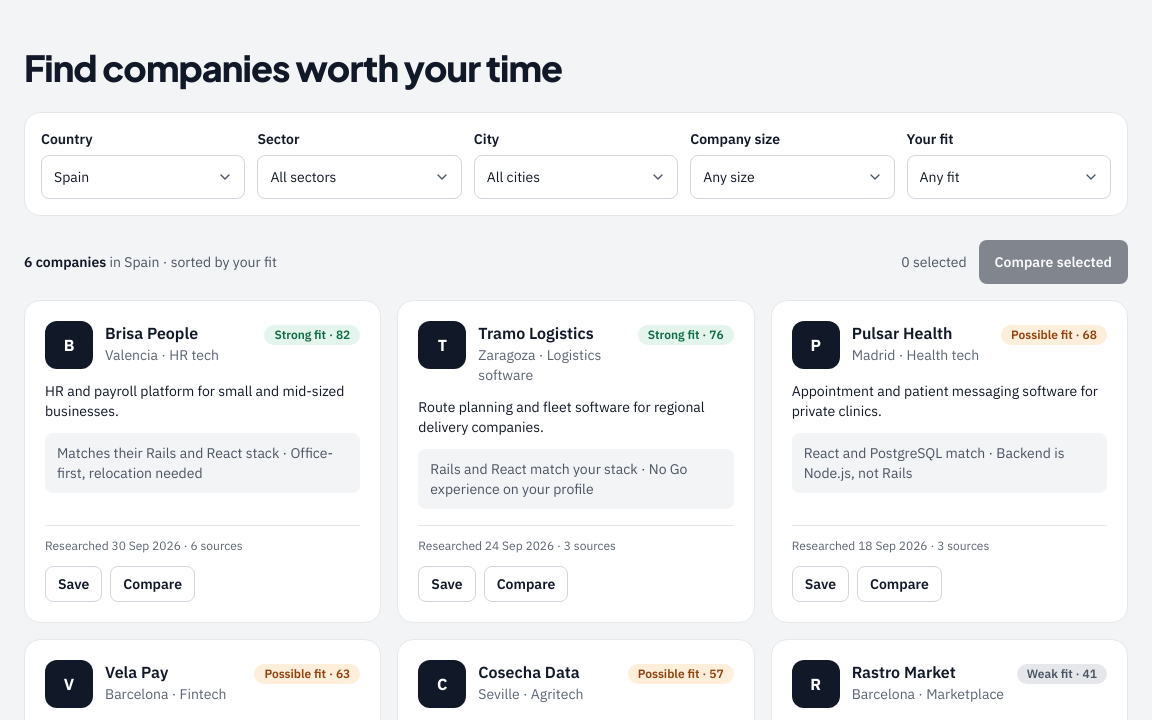
Search › shows an empty state when nothing matches
The width and height of the screenshot is (1152, 720).
Select "1,000+ employees" in the dropdown labelled "Company size": (792, 177) [690,155,895,199]
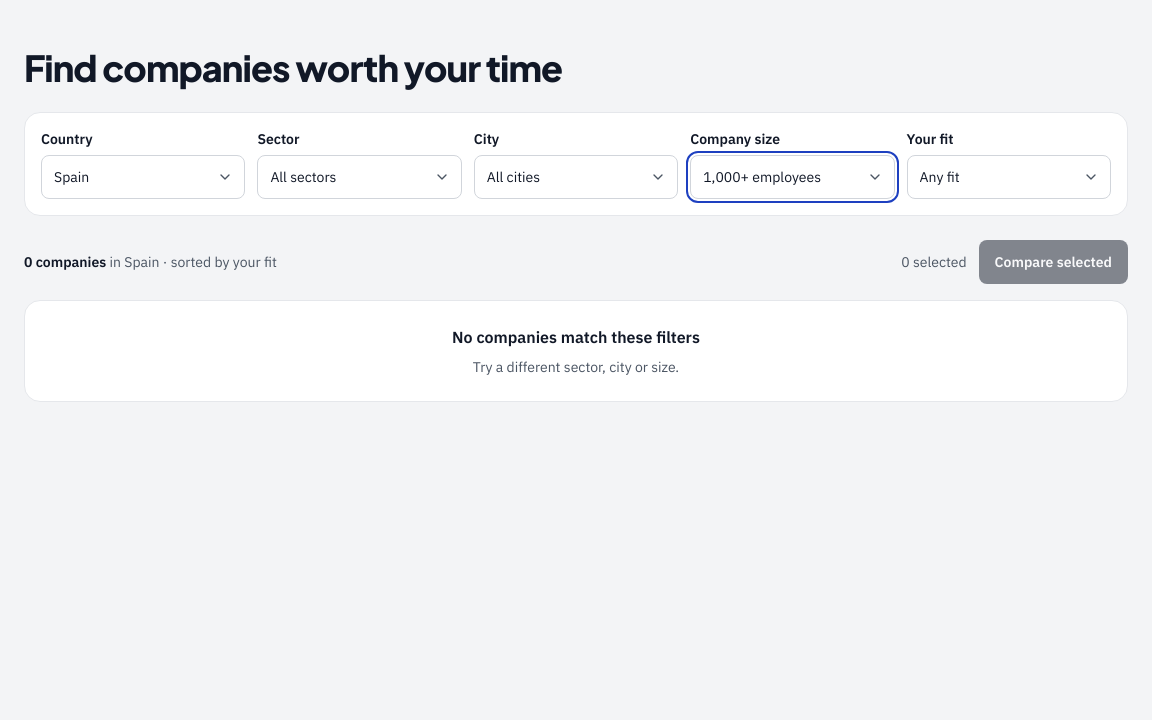
Check: the text "No companies match these filters" is shown, box [452,327,700,347]
